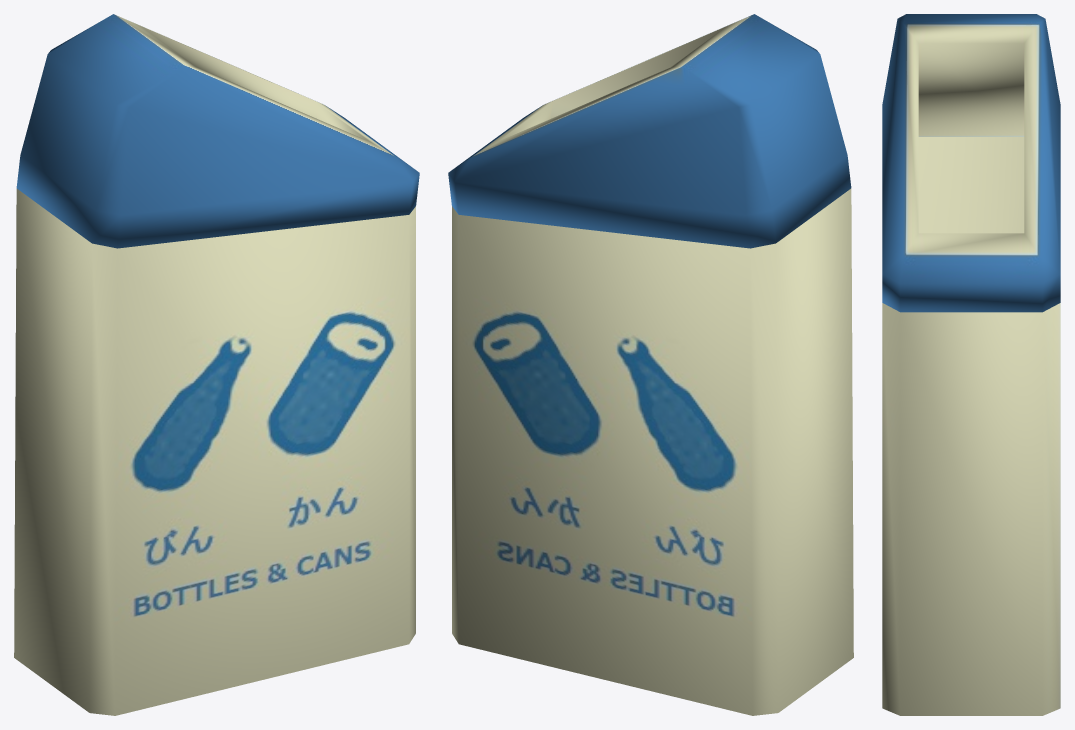
File: trashbox_c03.fbx
The picture shows the model from 3 angles, left to right: view 1: azimuth 30°, elevation 25°; view 2: azimuth 150°, elevation 25°; view 3: azimuth 270°, elevation 25°; orthographic projection. The views are drawn at different scales.
Parts seen in each view (by area): view 1: trashbox_c03.001, trashbox_c03_lid; view 2: trashbox_c03.001, trashbox_c03_lid; view 3: trashbox_c03.001, trashbox_c03_lid.
Part boxes in pixels (x1=…): trashbox_c03.001: x1=14, y1=188, x2=415, y2=715; trashbox_c03_lid: x1=16, y1=14, x2=419, y2=248; trashbox_c03.001: x1=452, y1=188, x2=853, y2=715; trashbox_c03_lid: x1=448, y1=14, x2=851, y2=248; trashbox_c03.001: x1=882, y1=137, x2=1060, y2=715; trashbox_c03_lid: x1=882, y1=14, x2=1060, y2=312.
Size of the model in its own units: 40.46 by 72.72 by 20.
